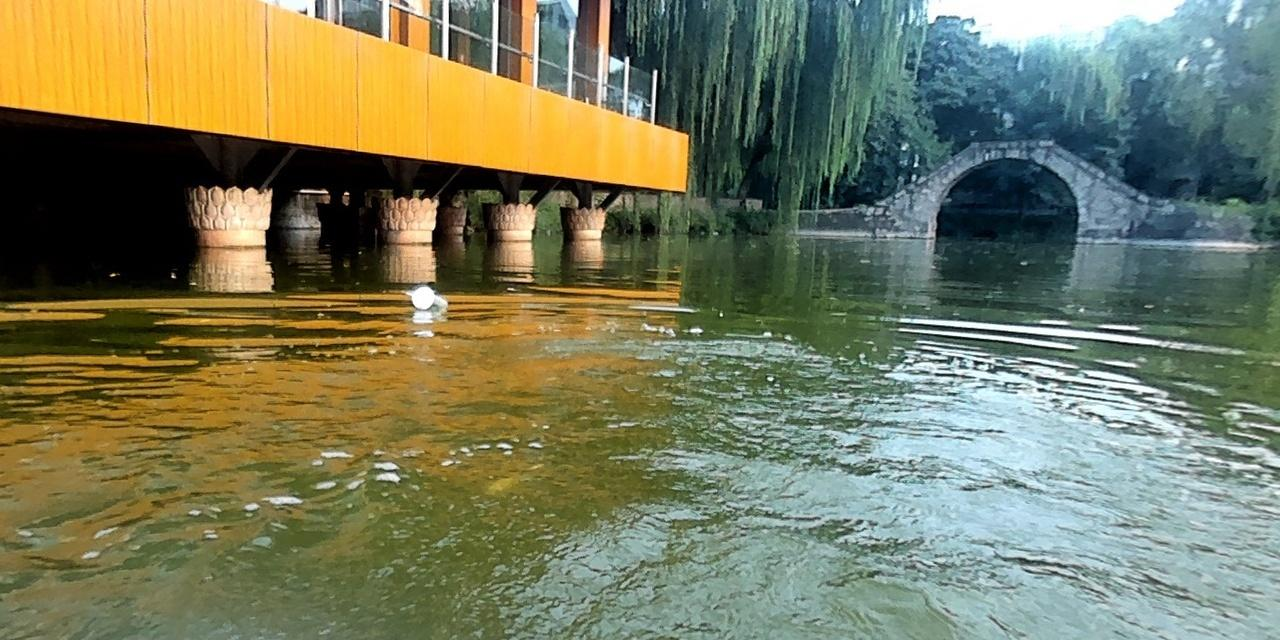bottle: (408, 282, 449, 312)
